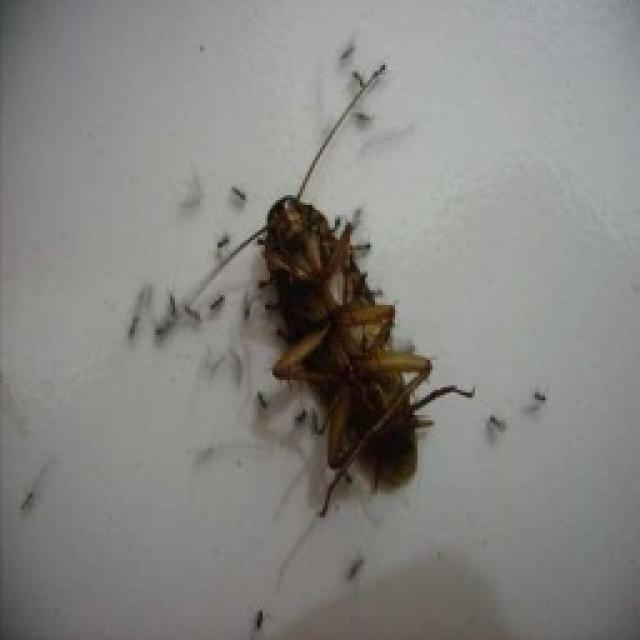cockroach: (244, 132, 473, 550)
